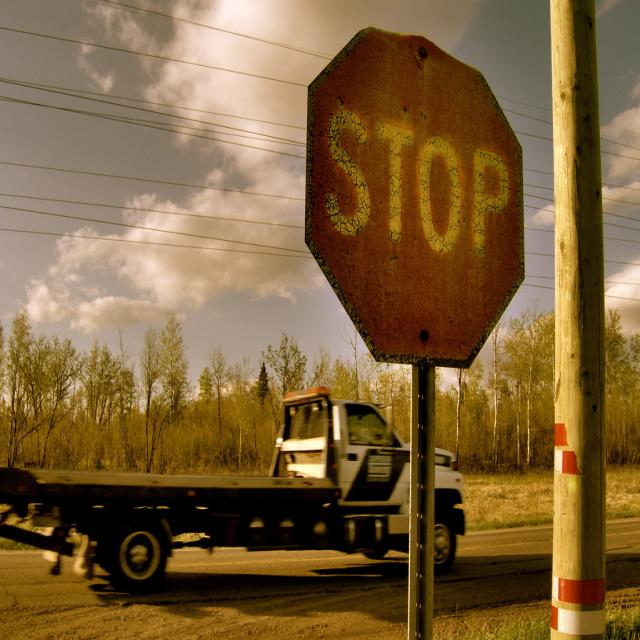Stop-sign: (302, 24, 525, 370)
